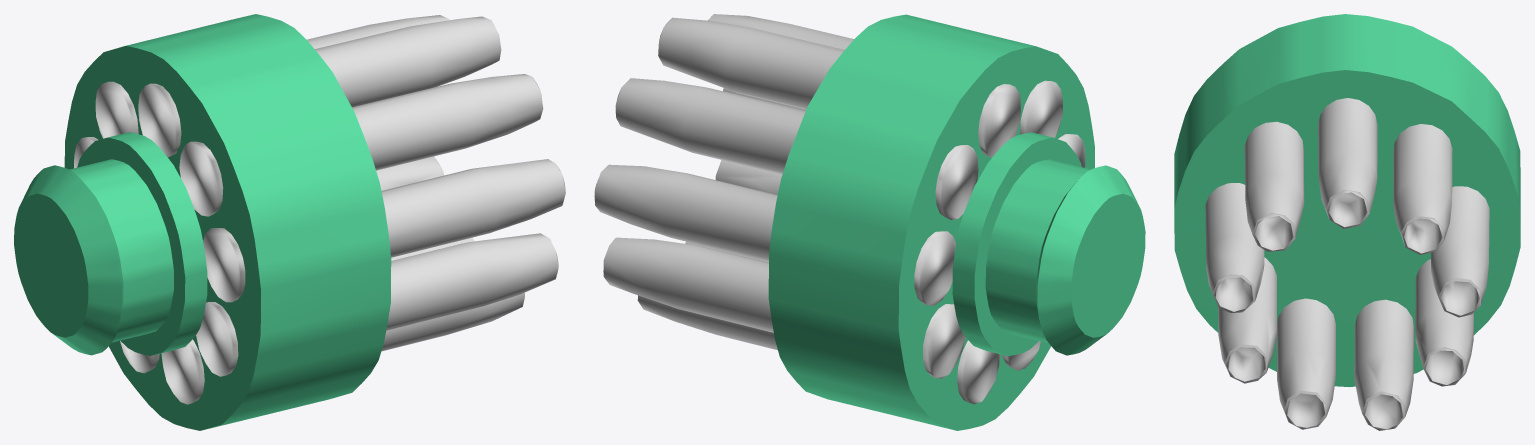
File: SpeedLoader9.fbx
3 renders of one model, left to right at view 1: azimuth 30°, elevation 25°; view 2: azimuth 150°, elevation 25°; view 3: azimuth 270°, elevation 25°, orthographic. The views are drawn at different scales.
Visible parts, largest first — view 1: SpeedLoader9; view 2: SpeedLoader9; view 3: SpeedLoader9.
Boxes of the visible parts, x1,y1,x2,y2 form: SpeedLoader9: (14, 14, 565, 430); SpeedLoader9: (594, 14, 1145, 430); SpeedLoader9: (1174, 14, 1520, 430).
Size of the model in its own units: 0.0481 by 0.0376 by 0.0372.
